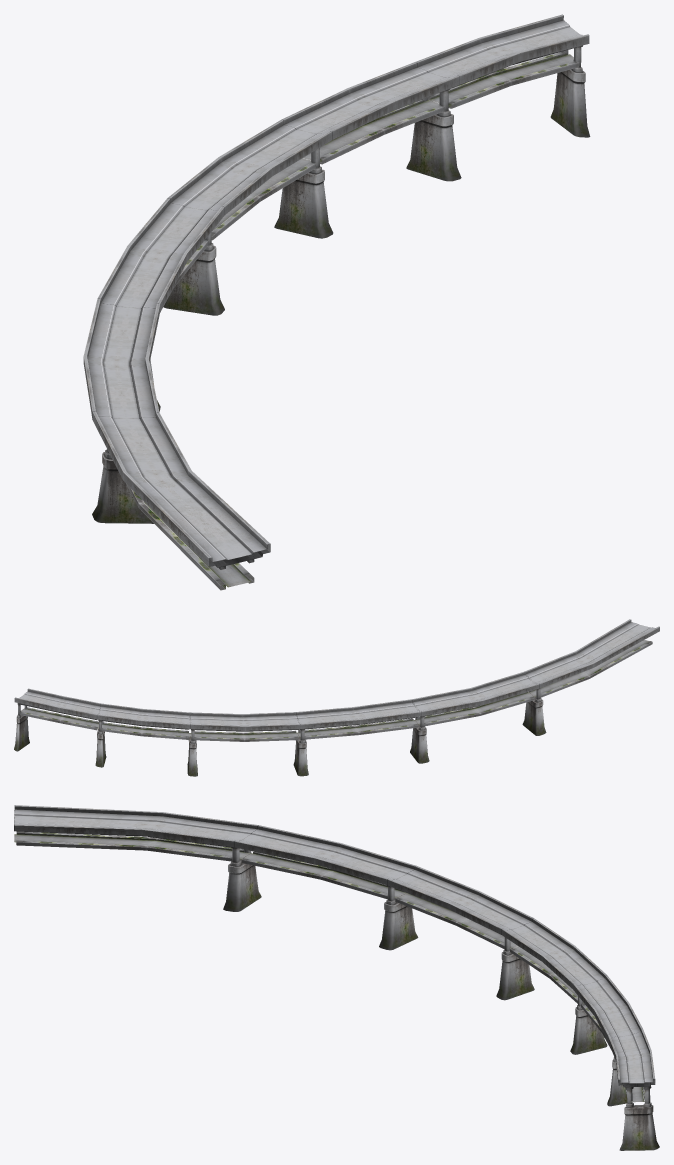
File: Bridge_curve.FBX
3 views of the same model, one above another, from view 1: azimuth 30°, elevation 25°; view 2: azimuth 150°, elevation 25°; view 3: azimuth 270°, elevation 25° (orthographic). The views are drawn at different scales.
Parts seen in each view (by area): view 1: polySurface2; view 2: polySurface2; view 3: polySurface2.
Boxes of the visible parts, bbox=[...] form: polySurface2: bbox=[83, 14, 590, 590]; polySurface2: bbox=[14, 619, 659, 776]; polySurface2: bbox=[14, 805, 659, 1150].
Bounding box in the file's own units: 11707 × 1443 × 11618.
1 material, 1 textured.
